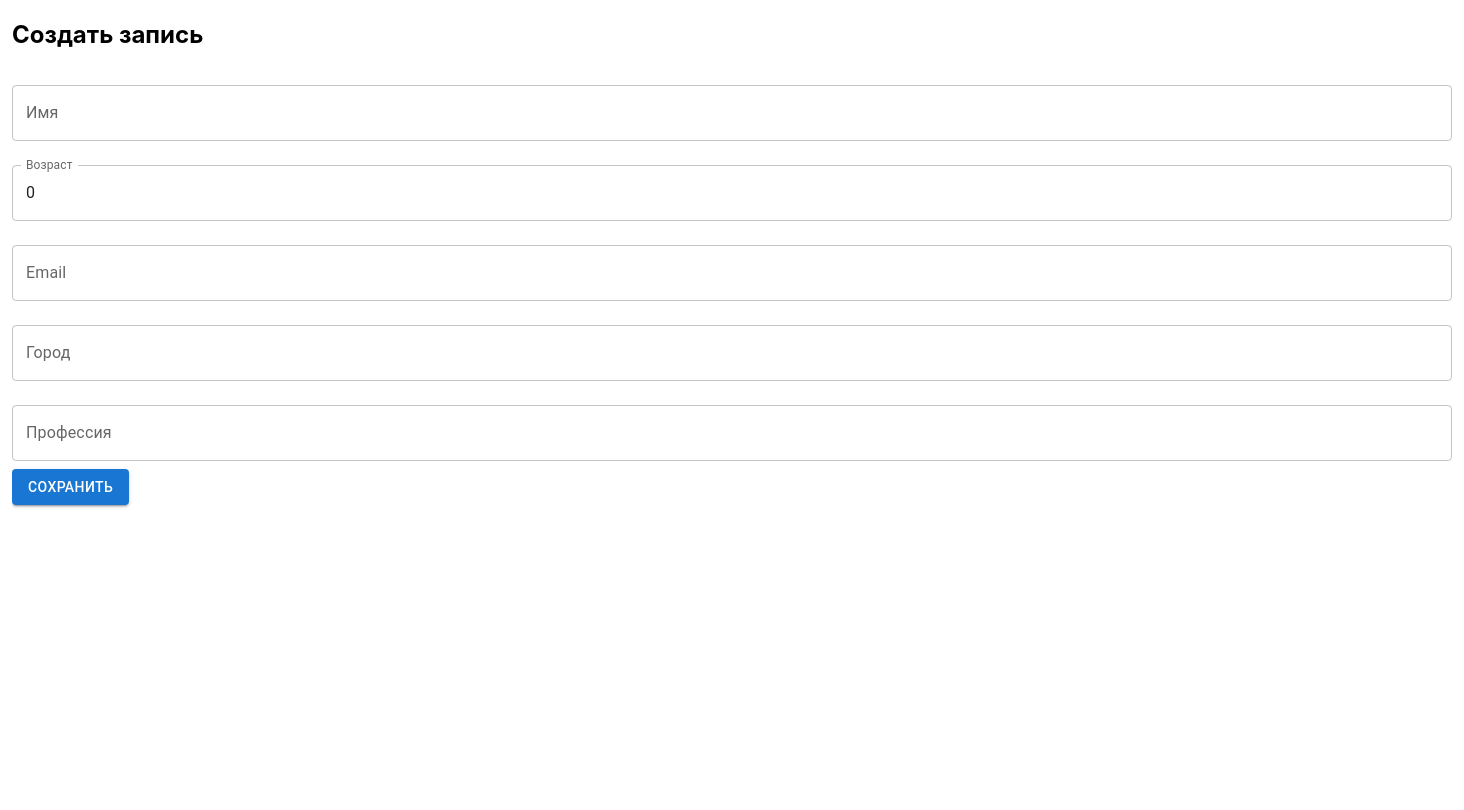
Test case: RecordForm › отображает ошибки валидации при неверных данных
The width and height of the screenshot is (1464, 810).
Click the button "Сохранить" at (71, 487), box [12,469,129,505]
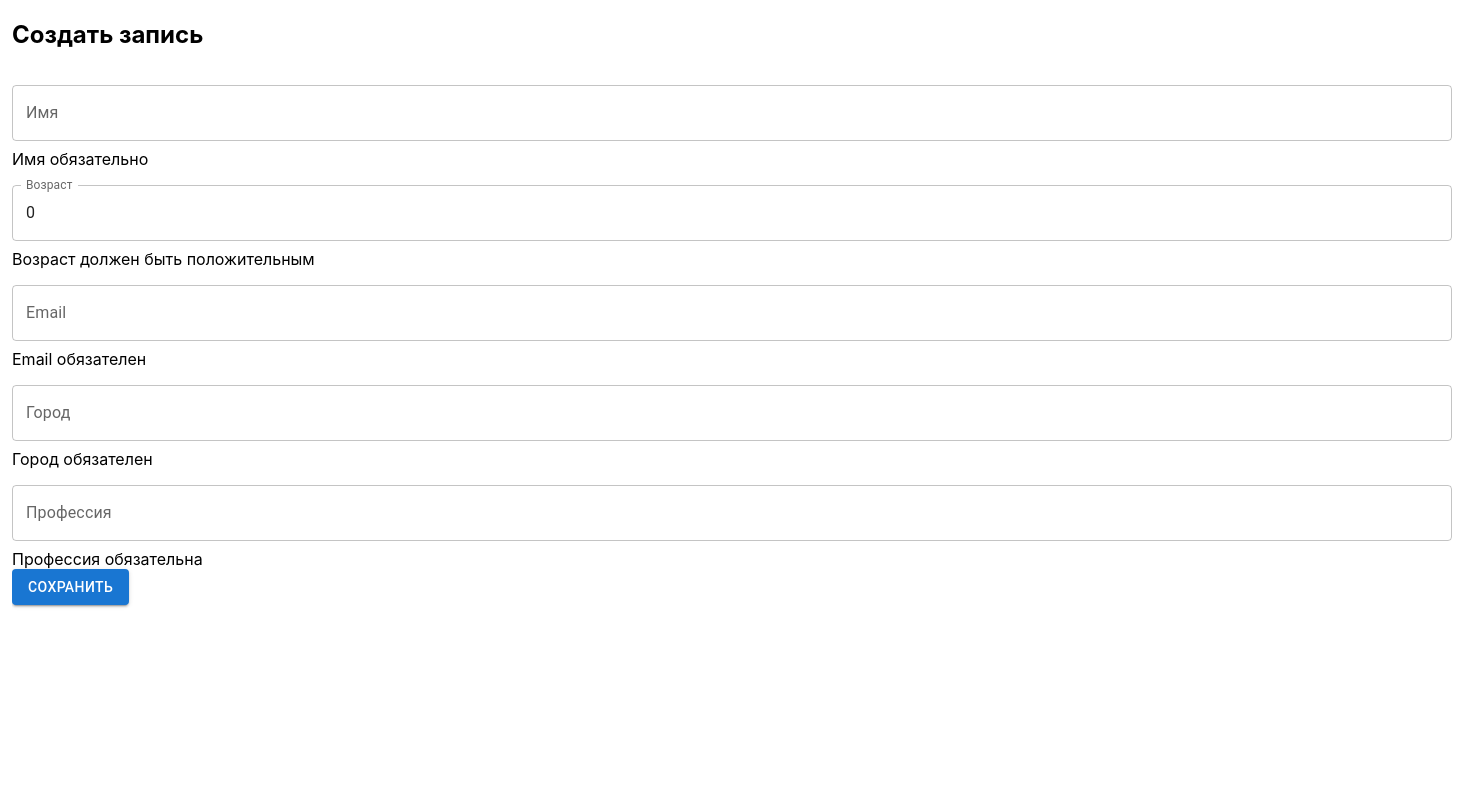
Now the text "Имя обязательно" is shown, box [12,149,148,169]
Now the text "Возраст должен быть положительным" is shown, box [12,249,315,269]
Now the text "Email обязателен" is shown, box [12,349,146,369]
